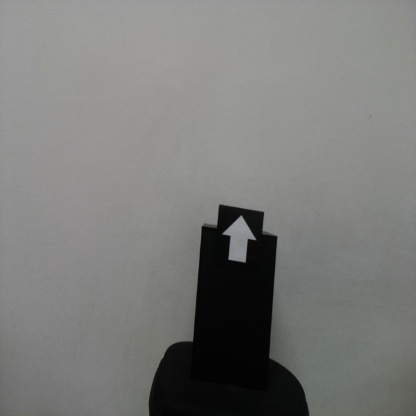id_1: (219, 206, 263, 276)
